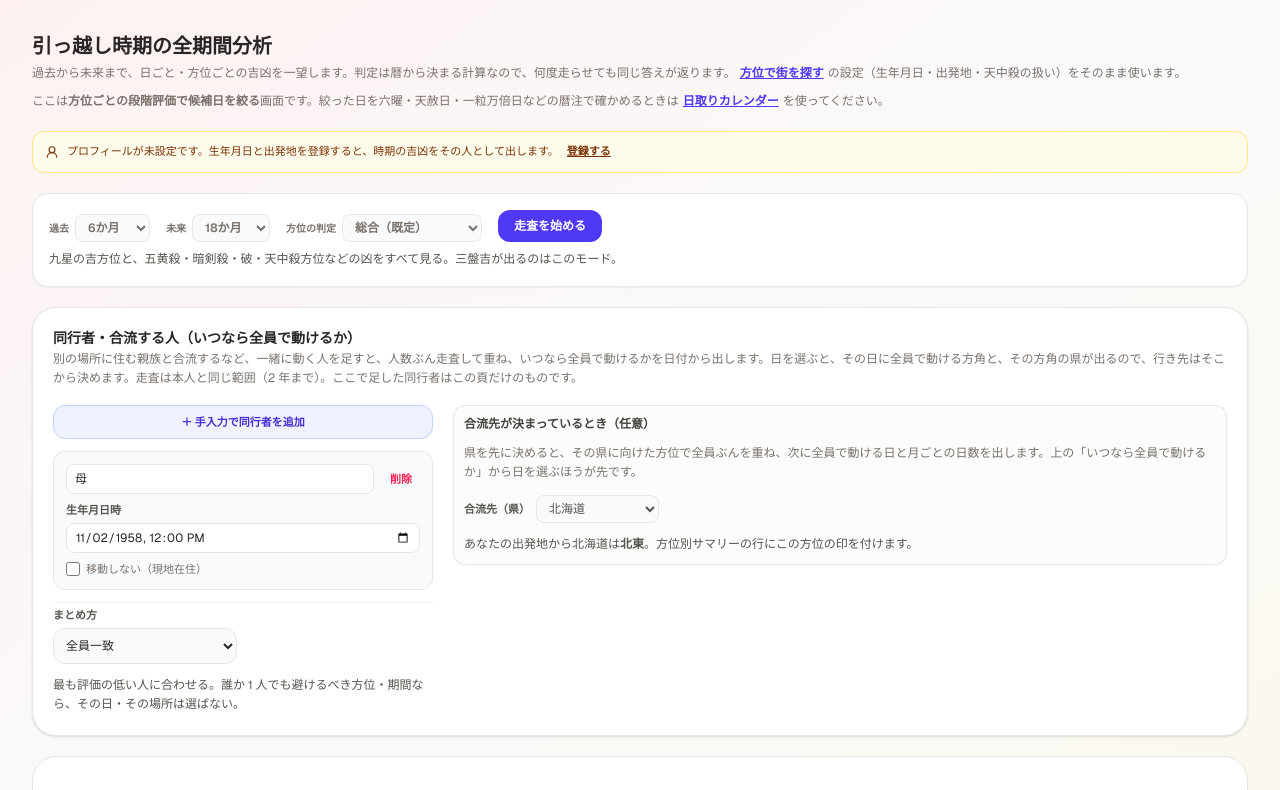
Test: 時期ツールの同行者 › 同行者を消すと走査し直しを促し、この頁の鍵に保存する（物件検索の同行者は残す）
The width and height of the screenshot is (1280, 790).
What coordinates should you click on to do the following:
click the button "走査を始める"
I would click on:
 (550, 226)
Its box is [498,210,602,242].
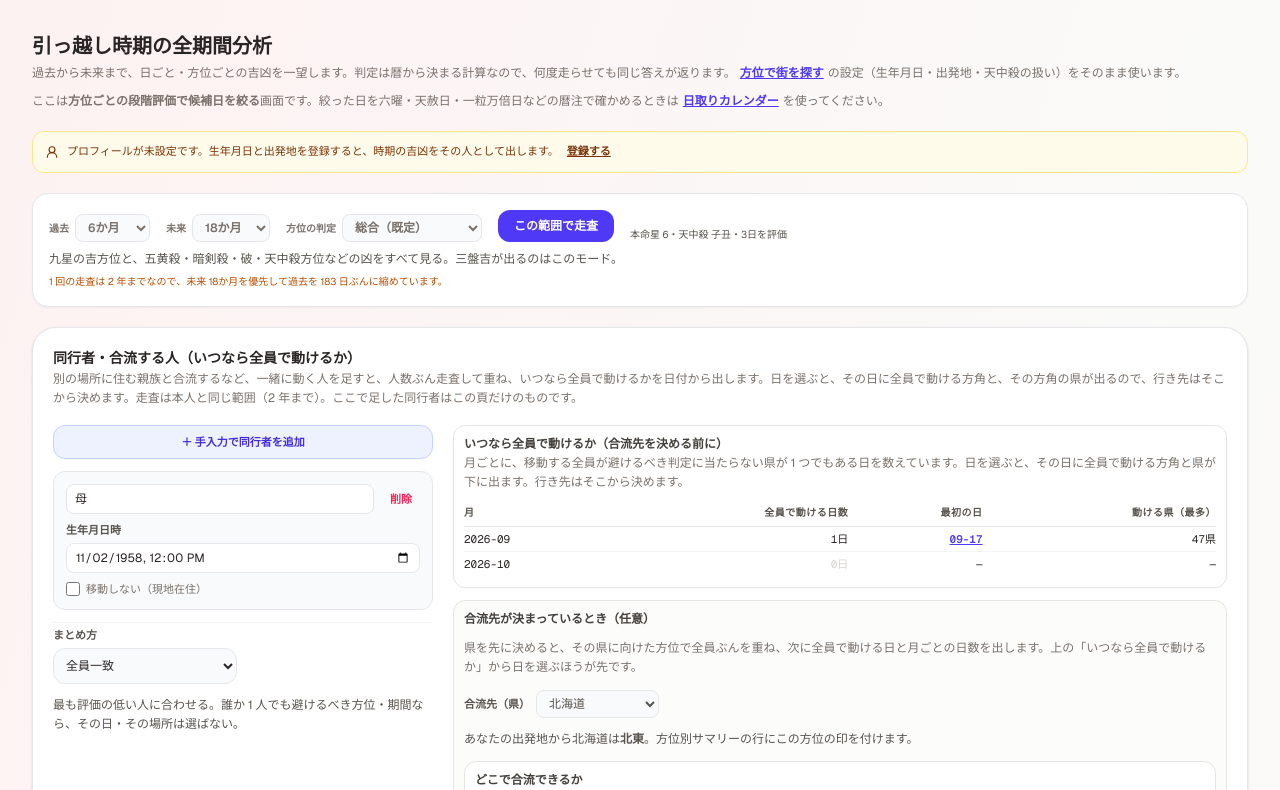
What coordinates should you click on to do the following:
click the button "削除"
I would click on:
 (401, 499)
Its box is [382,487,420,512].
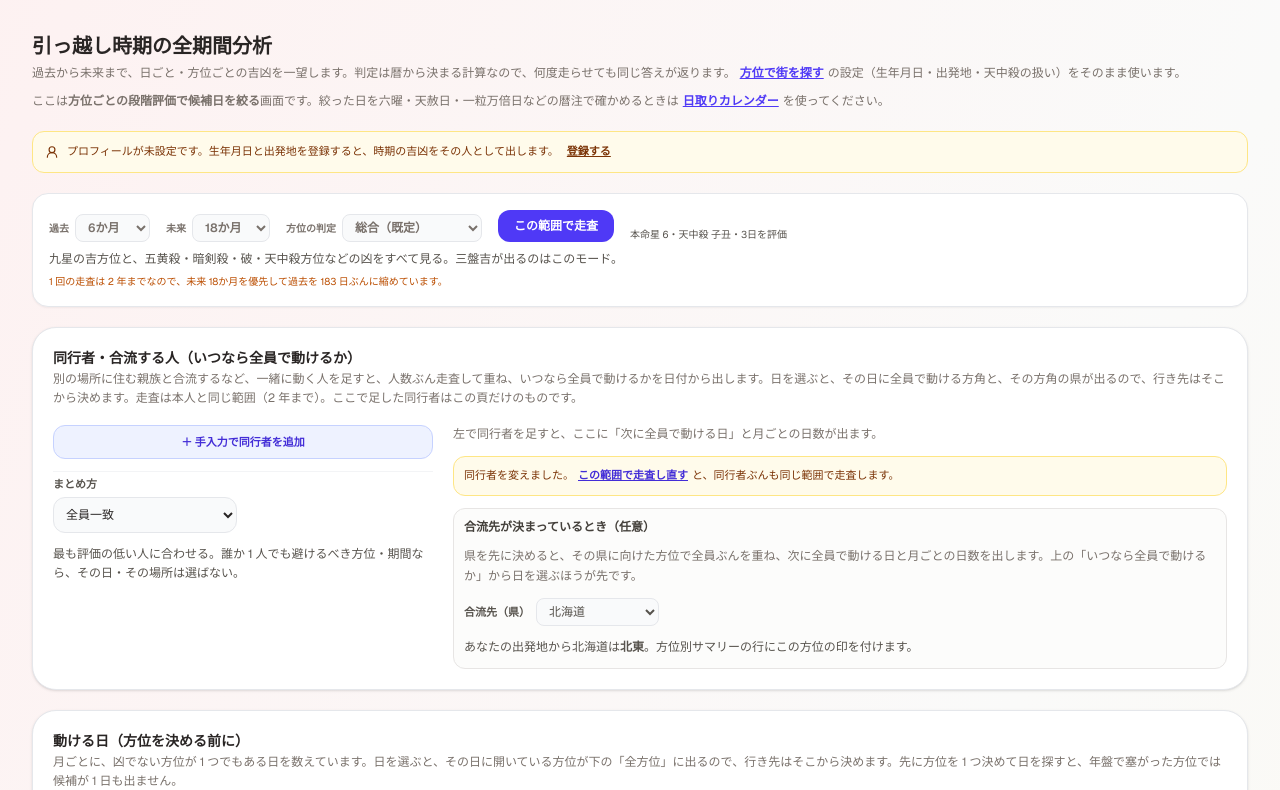
Now the text "同行者を変えました" is shown, box [464,468,574,482]
